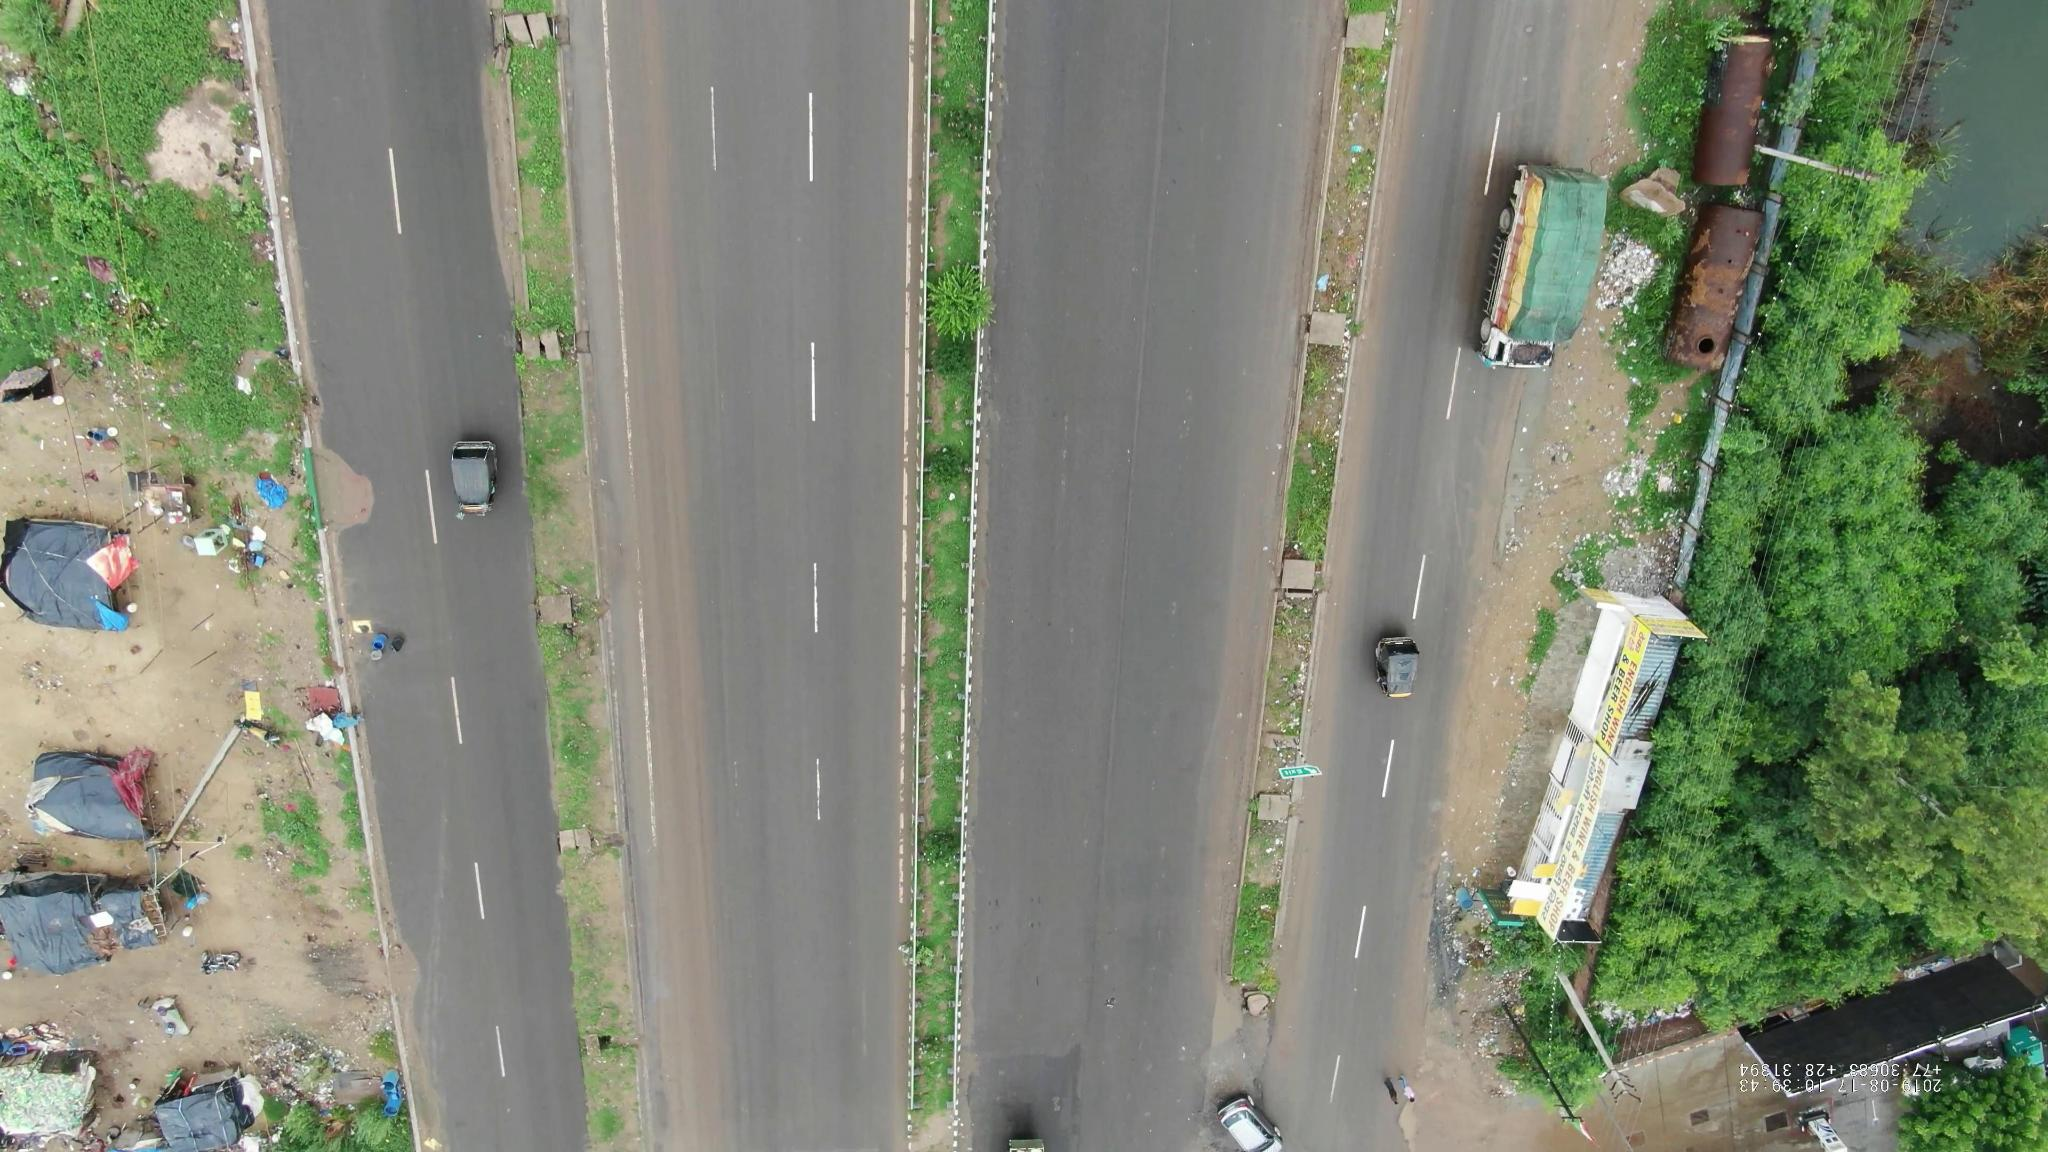Muddy_road: (617, 550, 724, 895), (616, 293, 689, 547), (646, 924, 727, 1141)
